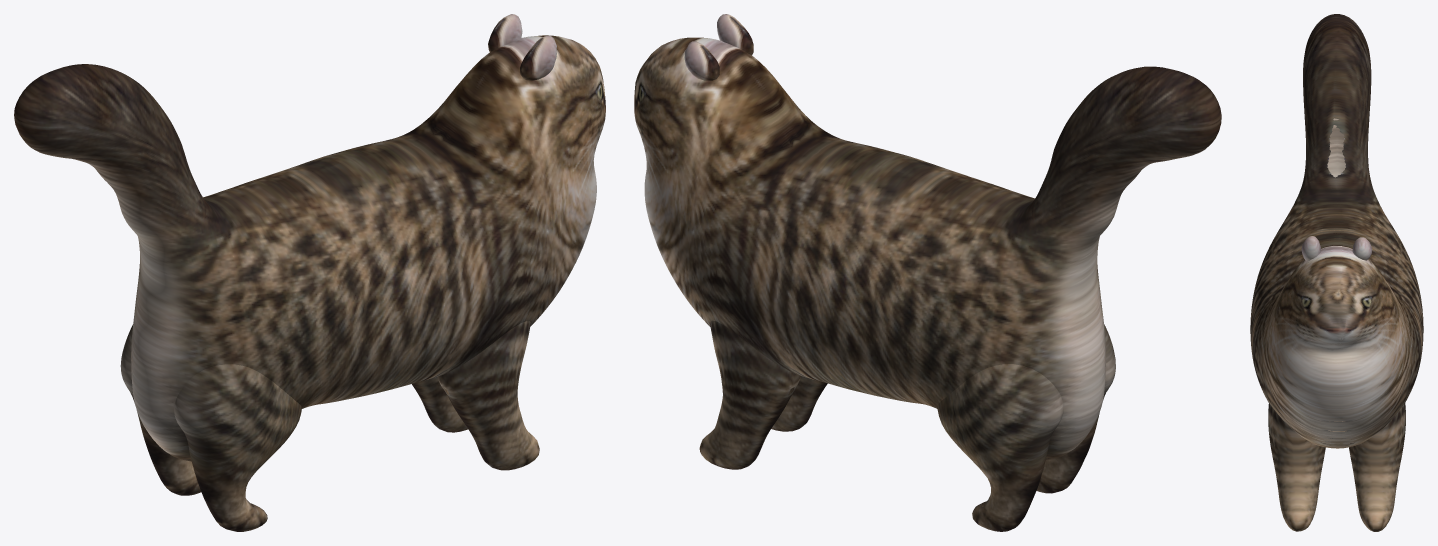
Rendered from siberian.fbx.
3 renders of one model, left to right at view 1: azimuth 30°, elevation 25°; view 2: azimuth 150°, elevation 25°; view 3: azimuth 270°, elevation 25°, orthographic. The views are drawn at different scales.
Parts seen in each view (by area): view 1: Mesh_0; view 2: Mesh_0; view 3: Mesh_0.
Boxes of the visible parts, x1,y1,x2,y2 form: Mesh_0: (14,14,605,531); Mesh_0: (634,14,1221,531); Mesh_0: (1250,14,1423,531).
Size of the model in its own units: 934 by 736 by 324.
Materials: 1 (1 with a texture image).
